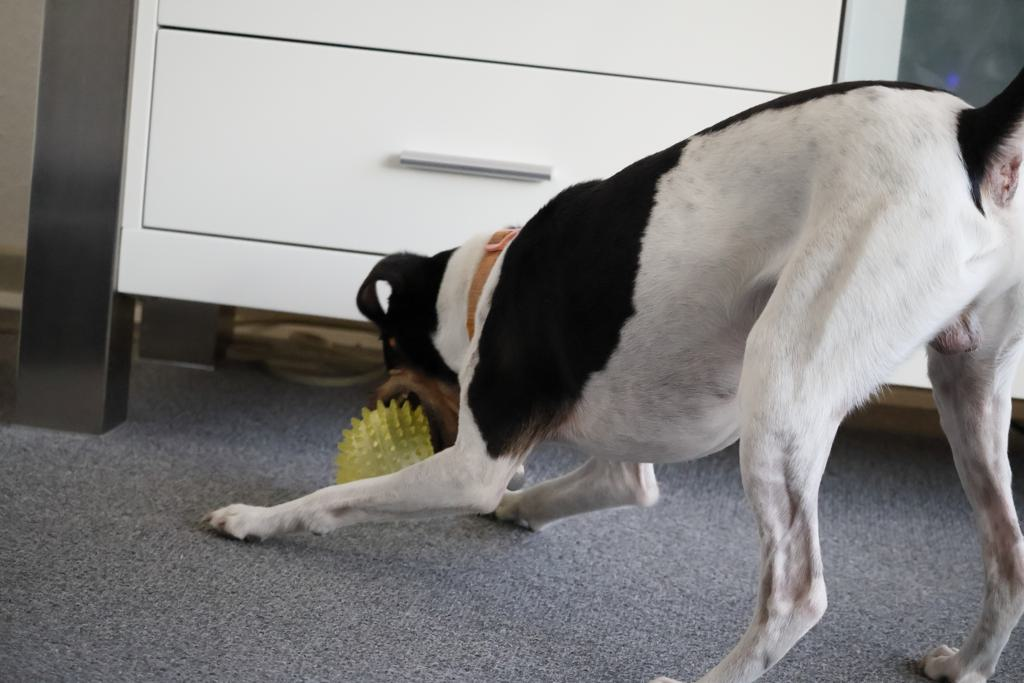Dog: (188, 55, 1024, 683)
